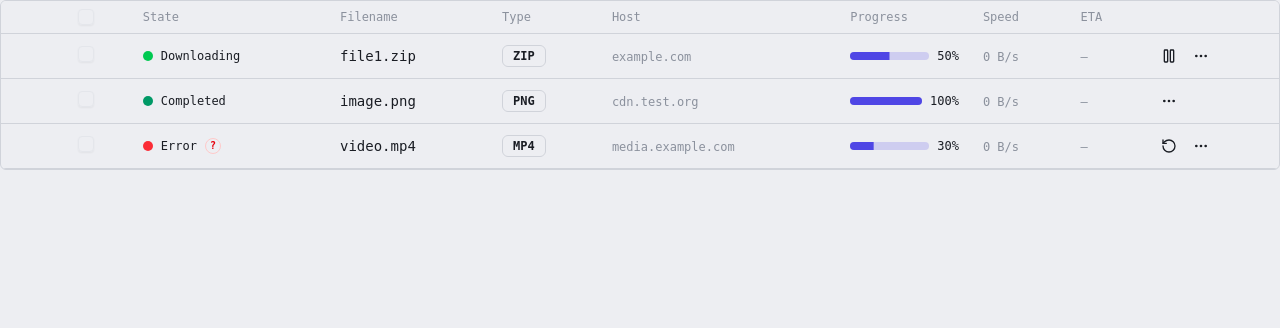
it: DownloadsTable › open-file / open-folder menu items › should expose Open file and Open folder menu items only for Completed rows
// Completed row (image.png) — menu must include both items
What coordinates should you click on to do the following:
click the button named "More actions" in the row of "Completed"
I would click on:
 (1169, 101)
Its box is [1155, 87, 1183, 115].
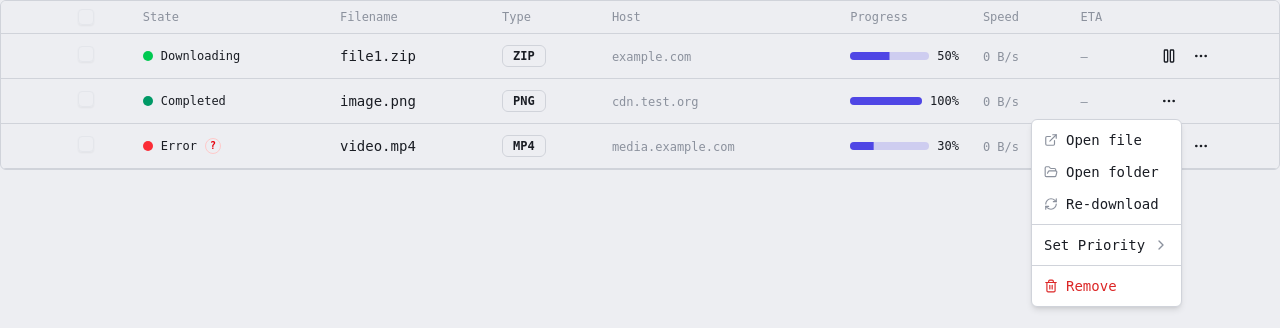
Now the menu item "Open file" is shown, box [1044, 132, 1142, 148]
Now the menu item "Open folder" is shown, box [1044, 164, 1159, 180]
